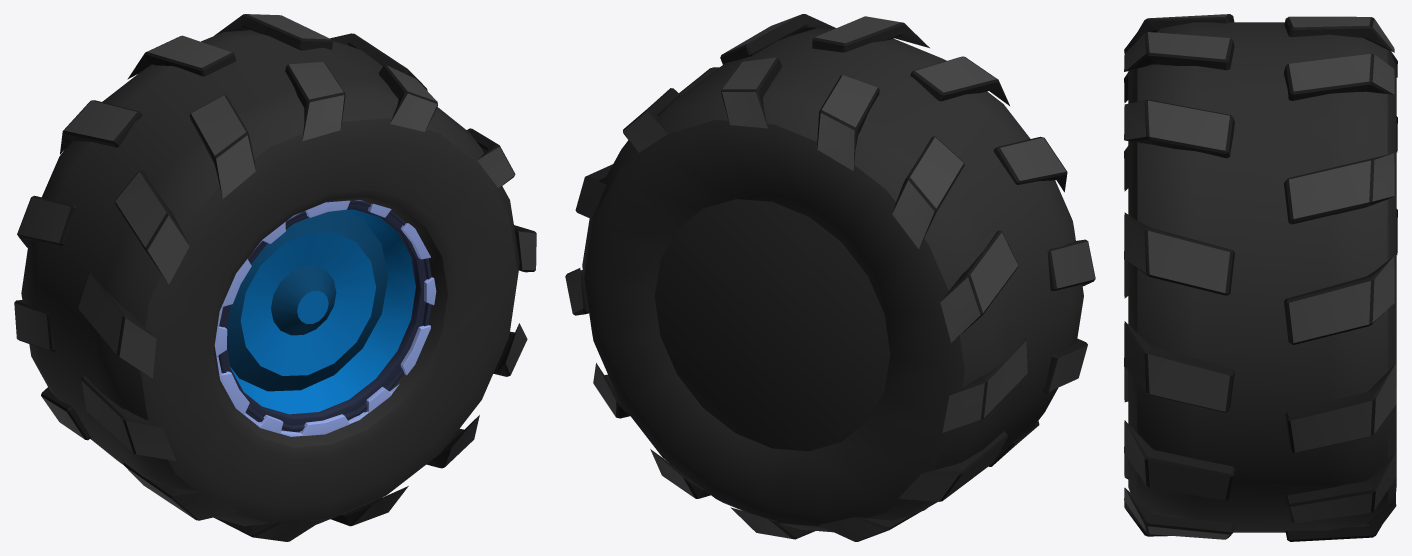
Rendered from wheel_03.fbx.
3 views of the same model, side by side, from view 1: azimuth 30°, elevation 25°; view 2: azimuth 150°, elevation 25°; view 3: azimuth 270°, elevation 25° (orthographic). The views are drawn at different scales.
Parts seen in each view (by area): view 1: wheel_03; view 2: wheel_03; view 3: wheel_03.
Part boxes in pixels (x1,y1,x2,y2): wheel_03: (14,14,536,541); wheel_03: (565,14,1095,541); wheel_03: (1124,14,1397,541).
Size of the model in its own units: 105 by 106 by 54.79.
